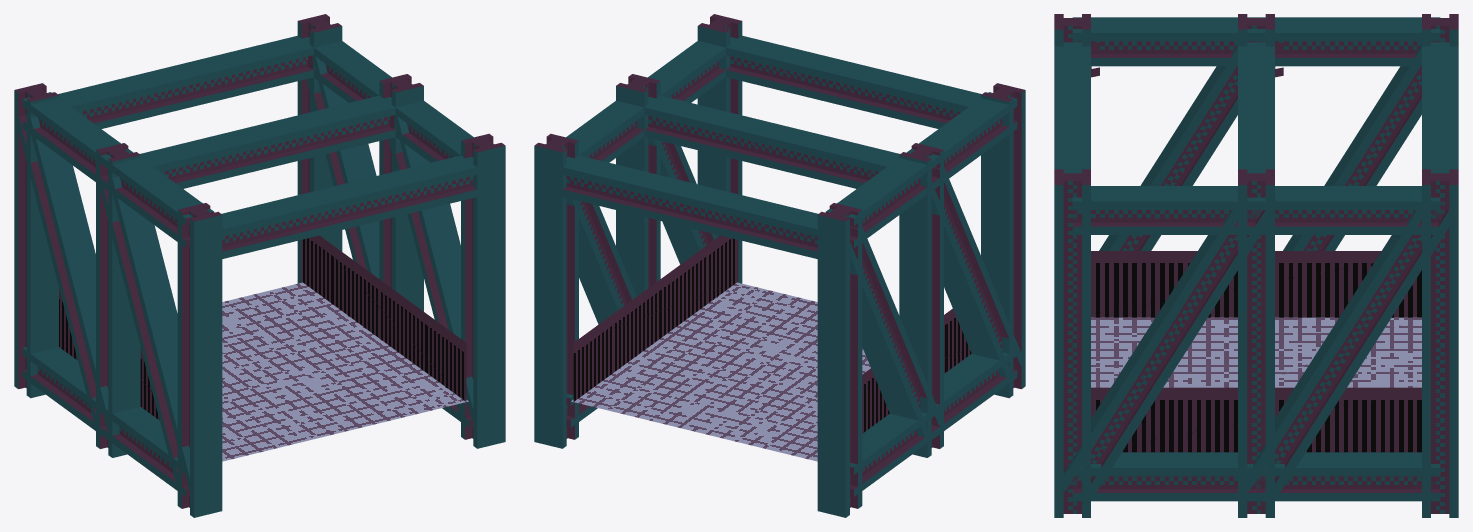
File: metal_bridge.glb
The picture shows the model from 3 angles, left to right: view 1: azimuth 30°, elevation 25°; view 2: azimuth 150°, elevation 25°; view 3: azimuth 270°, elevation 25°; orthographic projection. The views are drawn at different scales.
Visible parts, largest first — view 1: metal_bridge; view 2: metal_bridge; view 3: metal_bridge.
Boxes of the visible parts, <box> form: metal_bridge: <box>14,14,505,517</box>; metal_bridge: <box>534,14,1025,517</box>; metal_bridge: <box>1054,14,1458,517</box>.
Bounding box in the file's own units: 5.5 × 5 × 5.5.
1 material, 1 textured.
